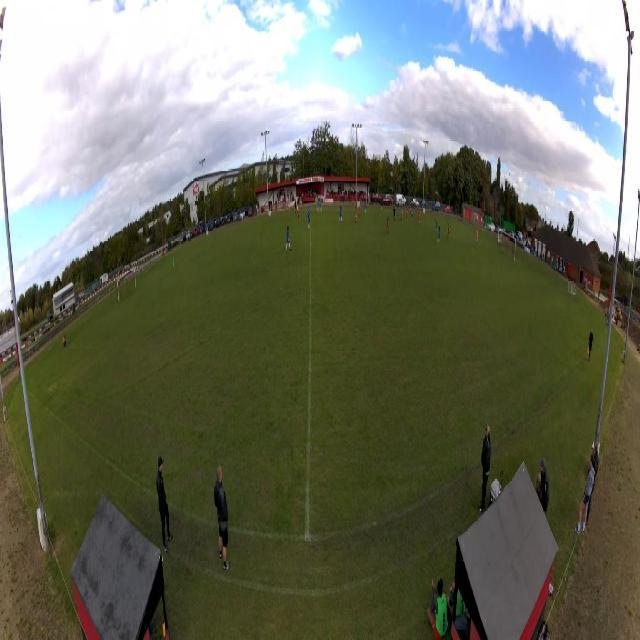player: (285, 224, 292, 253), (307, 210, 311, 232), (437, 225, 441, 245), (172, 254, 176, 273), (339, 205, 343, 223), (418, 210, 422, 227), (447, 224, 451, 241), (363, 198, 367, 214), (392, 206, 396, 222), (475, 228, 479, 244), (386, 215, 389, 236), (355, 209, 358, 226), (435, 217, 438, 233), (297, 204, 300, 219), (359, 202, 362, 216), (401, 207, 404, 221), (406, 205, 409, 219), (319, 199, 322, 213), (318, 198, 320, 213), (409, 204, 411, 218), (418, 208, 420, 219), (308, 204, 310, 211), (412, 211, 414, 218)
